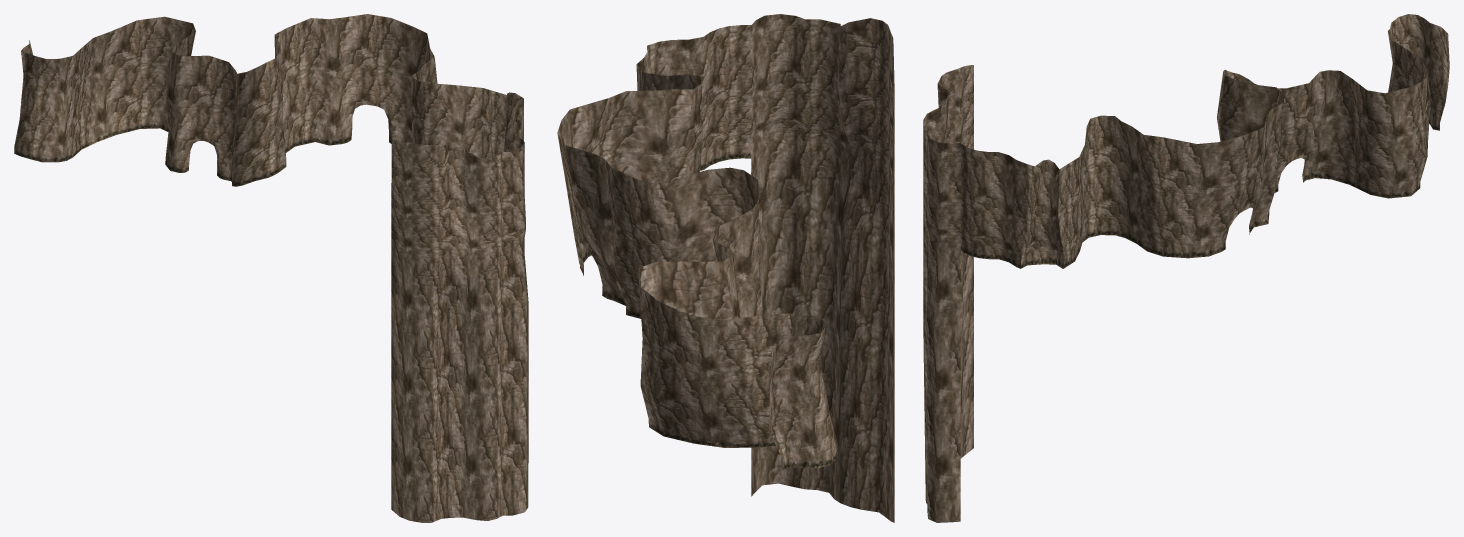
File: OVERHILL_A_01_LINE91.fbx
3 views of the same model, side by side, from view 1: azimuth 30°, elevation 25°; view 2: azimuth 150°, elevation 25°; view 3: azimuth 270°, elevation 25° (orthographic). The views are drawn at different scales.
Parts seen in each view (by area): view 1: OVERHILL_A_01_LINE91; view 2: OVERHILL_A_01_LINE91; view 3: OVERHILL_A_01_LINE91.
Part boxes in pixels (x1,y1,x2,y2): OVERHILL_A_01_LINE91: (14,14,528,522); OVERHILL_A_01_LINE91: (557,14,894,522); OVERHILL_A_01_LINE91: (923,14,1449,522).
Bounding box in the file's own units: 300947 × 338682 × 405079.
Materials: 2 (2 with a texture image).
